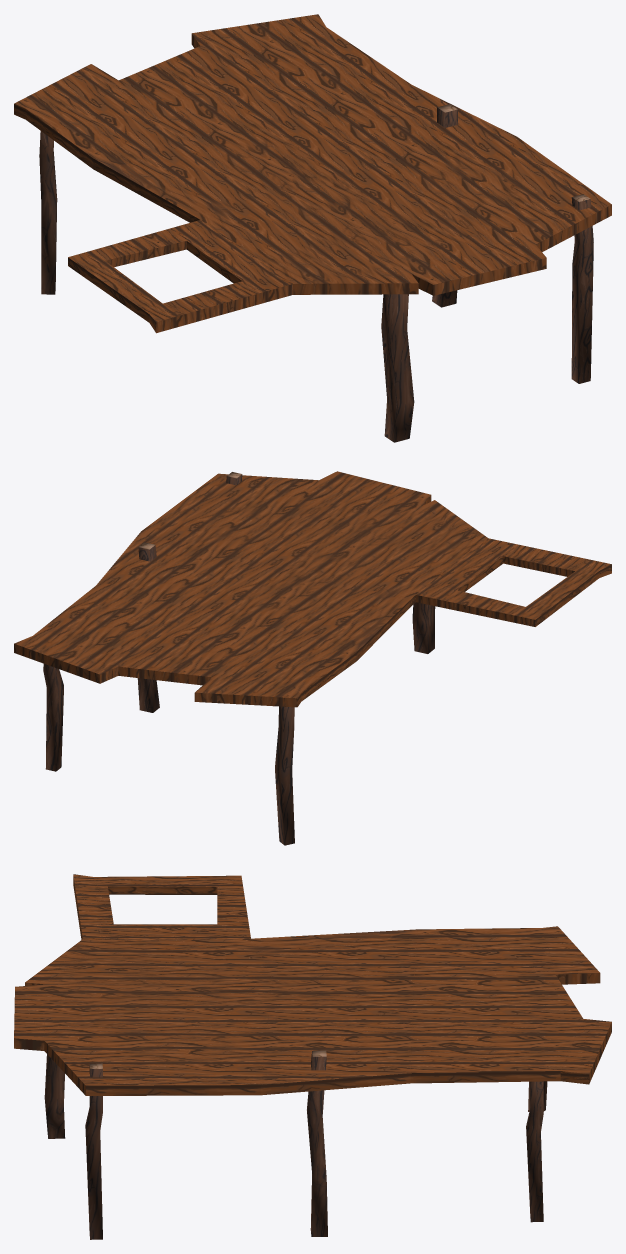
Rendered from Bottom_Asset.fbx.
3 views of the same model, one above another, from view 1: azimuth 30°, elevation 25°; view 2: azimuth 150°, elevation 25°; view 3: azimuth 270°, elevation 25° (orthographic). The views are drawn at different scales.
Parts seen in each view (by area): view 1: Main Bottom, Bottom Wood; view 2: Main Bottom, Bottom Wood; view 3: Main Bottom, Bottom Wood.
Boxes of the visible parts, <box> form: Main Bottom: <box>14,14,611,333</box>; Bottom Wood: <box>39,104,593,442</box>; Main Bottom: <box>14,471,611,707</box>; Bottom Wood: <box>43,472,435,845</box>; Main Bottom: <box>14,874,611,1095</box>; Bottom Wood: <box>44,1050,547,1239</box>.
Size of the model in its own units: 678 by 279 by 809.
2 materials, 2 textured.
